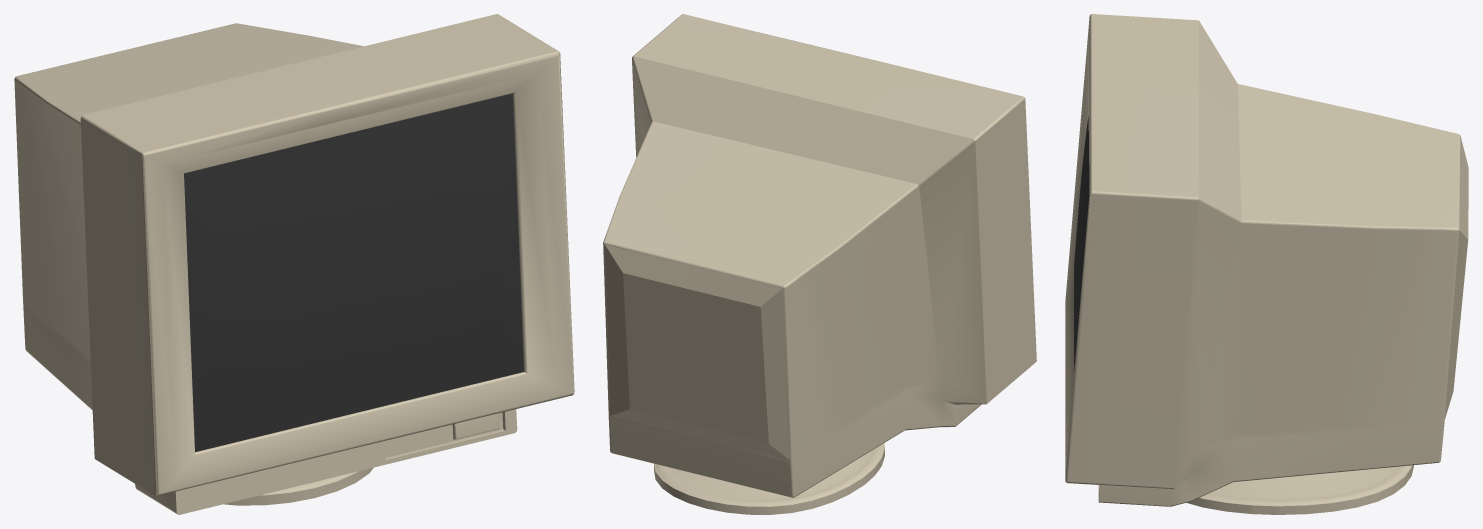
Rendered from computer_monitor.fbx.
The picture shows the model from 3 angles, left to right: view 1: azimuth 30°, elevation 25°; view 2: azimuth 150°, elevation 25°; view 3: azimuth 270°, elevation 25°; orthographic projection. The views are drawn at different scales.
Visible parts, largest first — view 1: polySurface2; view 2: polySurface2; view 3: polySurface2.
Boxes of the visible parts, box(x1,y1,x2,y2) form: polySurface2: box(14, 14, 574, 514); polySurface2: box(603, 14, 1036, 514); polySurface2: box(1065, 14, 1468, 514).
Bounding box in the file's own units: 10.66 × 10.15 × 10.15.
